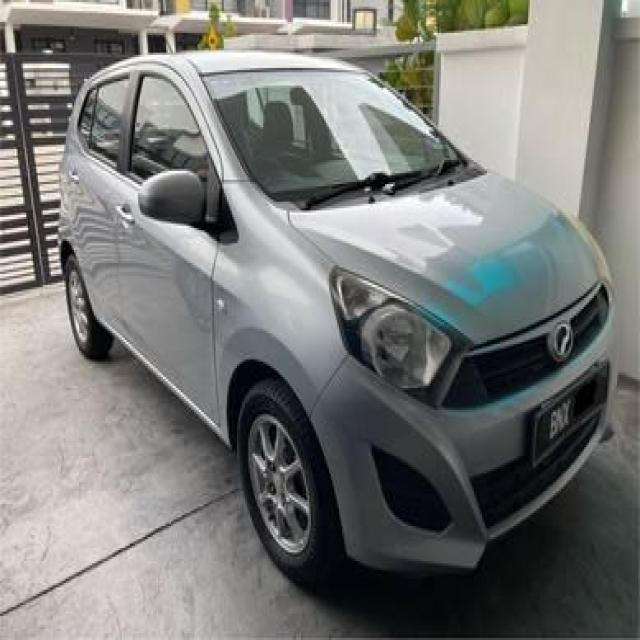PeroduaAxia: (55, 47, 619, 590)
